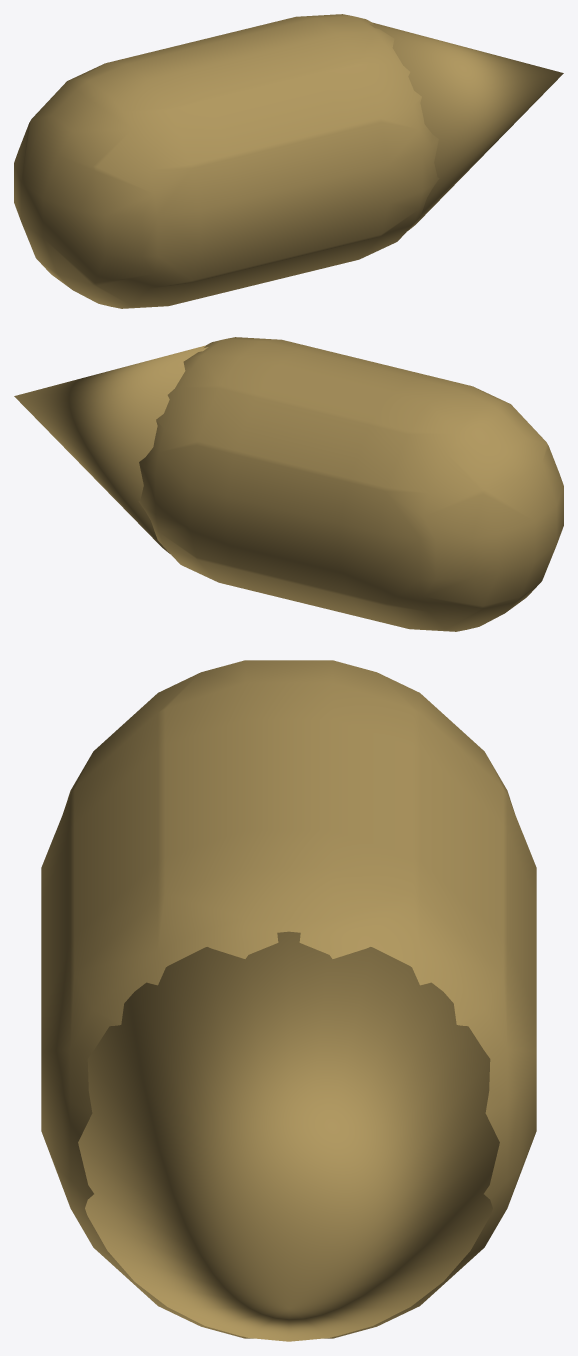
Rendered from Bullet_.fbx.
3 renders of one model, top to bottom at view 1: azimuth 30°, elevation 25°; view 2: azimuth 150°, elevation 25°; view 3: azimuth 270°, elevation 25°, orthographic. The views are drawn at different scales.
Parts seen in each view (by area): view 1: Shell, Cone; view 2: Shell, Cone; view 3: Shell, Cone.
Part boxes in pixels (x1,y1,x2,y2): Shell: (14,14,439,308); Cone: (369,22,563,231); Shell: (138,337,563,631); Cone: (14,345,208,554); Shell: (41,660,536,1338); Cone: (78,931,499,1341).
Bounding box in the file's own units: 562 × 227 × 227.
